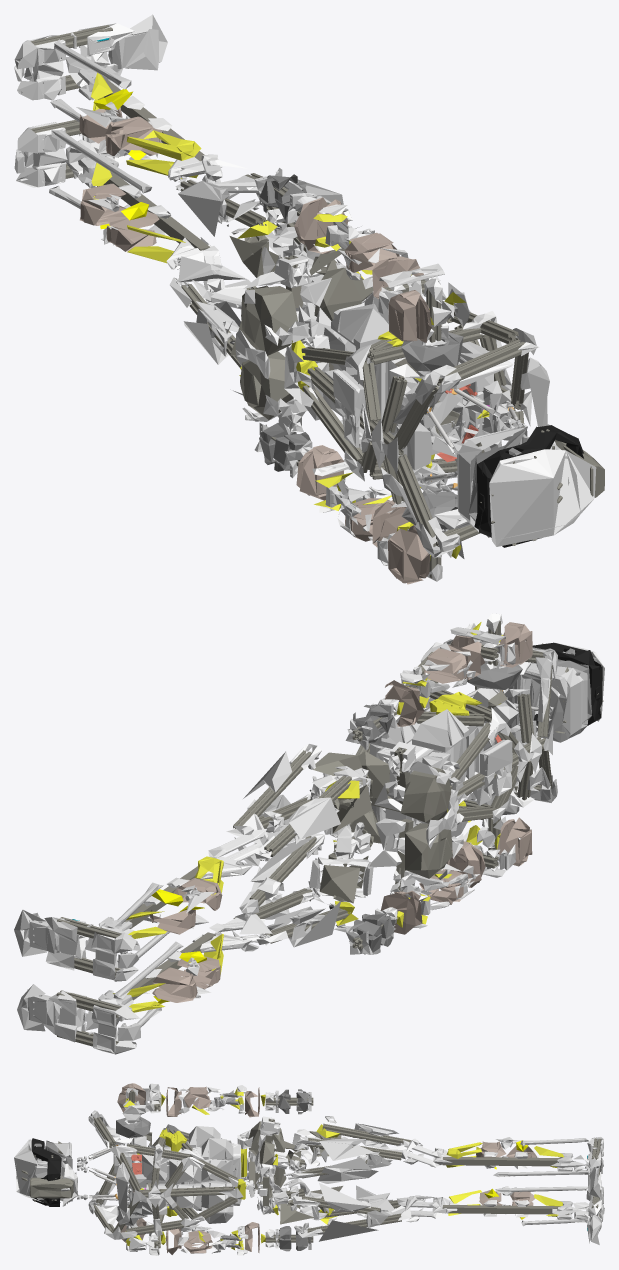
The model's file is dropbear-usd-browser-lite.glb.
3 renders of one model, top to bottom at view 1: azimuth 30°, elevation 25°; view 2: azimuth 150°, elevation 25°; view 3: azimuth 270°, elevation 25°, orthographic. The views are drawn at different scales.
Parts seen in each view (by area): view 1: BODY__world__1, BODY__world__3, BODY__world__2, BODY__head_u_joint_center__8__1__1, BODY__LL_skateboard_bearing_left_2__1, BODY__LL_skateboard_bearing_left_2__0, BODY__RL_double_bracket_10deg_MIR_MIR_MIR_1__2, BODY__head_u_joint_center__8__1__4, BODY__world__4, BODY__LH_RMD_X8_Pro_MIR8_MIR1__3__1__0, BODY__RL_RMD_X10_S2_MIR4Rotor_1__2, BODY__PG_RMD_X10_S2_MIR4__2_Rotor_1__1 (+32 smaller); view 2: BODY__world__1, BODY__world__3, BODY__world__2, BODY__head_u_joint_center__8__1__0, BODY__LL_skateboard_bearing_left_2__0, BODY__RL_skateboard_bearing_left_2__0, BODY__RL_double_bracket_10deg_MIR_MIR_MIR_1__2, BODY__LL_skateboard_bearing_left_2__1, BODY__LH_RMD_X8_Pro_MIR8_MIR1__3__1__0, BODY__RL_skateboard_bearing_left_2__1, BODY__PG_RMD_X10_S2_MIR4__1_Rotor_1__1, BODY__RL_RMD_X10_S2_MIR4Rotor_1__2 (+38 smaller); view 3: BODY__world__3, BODY__world__1, BODY__world__2, BODY__LL_bearingstrap_inner_thigh_1__2, BODY__head_u_joint_center__8__1__1, BODY__RL_bearingstrap_inner_thigh_1__2, BODY__LL_double_bracket_10deg_MIR_MIR_MIR_1__1, BODY__head_u_joint_center__8__1__2, BODY__RL_double_bracket_10deg_MIR_MIR_MIR_1__1, BODY__head_u_joint_center__8__1__4, BODY__world__4, BODY__LH_RMD_X8_Pro_MIR8_MIR1__3__1__0 (+49 smaller).
Boxes of the visible parts, box(x1,y1,x2,y2) form: BODY__world__1: box(240, 285, 528, 546); BODY__world__3: box(242, 289, 549, 557); BODY__world__2: box(235, 303, 538, 529); BODY__head_u_joint_center__8__1__1: box(489, 424, 596, 546); BODY__LL_skateboard_bearing_left_2__1: box(29, 23, 158, 100); BODY__LL_skateboard_bearing_left_2__0: box(14, 14, 167, 100); BODY__RL_double_bracket_10deg_MIR_MIR_MIR_1__2: box(80, 183, 159, 251); BODY__head_u_joint_center__8__1__4: box(474, 425, 583, 547); BODY__world__4: box(401, 332, 463, 529); BODY__LH_RMD_X8_Pro_MIR8_MIR1__3__1__0: box(345, 232, 423, 298); BODY__RL_RMD_X10_S2_MIR4Rotor_1__2: box(183, 279, 240, 364); BODY__PG_RMD_X10_S2_MIR4__2_Rotor_1__1: box(274, 254, 373, 341); BODY__world__1: box(333, 641, 552, 878); BODY__world__3: box(323, 647, 557, 879); BODY__world__2: box(321, 639, 553, 858); BODY__head_u_joint_center__8__1__0: box(506, 662, 587, 742); BODY__LL_skateboard_bearing_left_2__0: box(14, 909, 140, 981); BODY__RL_skateboard_bearing_left_2__0: box(17, 984, 140, 1054); BODY__RL_double_bracket_10deg_MIR_MIR_MIR_1__2: box(152, 956, 220, 1002); BODY__LL_skateboard_bearing_left_2__1: box(32, 912, 124, 970); BODY__LH_RMD_X8_Pro_MIR8_MIR1__3__1__0: box(424, 635, 485, 683); BODY__RL_skateboard_bearing_left_2__1: box(27, 989, 124, 1054); BODY__PG_RMD_X10_S2_MIR4__1_Rotor_1__1: box(330, 818, 416, 892); BODY__RL_RMD_X10_S2_MIR4Rotor_1__2: box(267, 900, 345, 947); BODY__world__3: box(88, 1110, 269, 1224); BODY__world__1: box(93, 1116, 286, 1235); BODY__world__2: box(95, 1124, 272, 1239); BODY__LL_bearingstrap_inner_thigh_1__2: box(317, 1152, 392, 1183); BODY__head_u_joint_center__8__1__1: box(14, 1139, 78, 1206); BODY__RL_bearingstrap_inner_thigh_1__2: box(319, 1183, 392, 1227); BODY__LL_double_bracket_10deg_MIR_MIR_MIR_1__1: box(442, 1157, 560, 1166); BODY__head_u_joint_center__8__1__2: box(21, 1141, 73, 1201); BODY__RL_double_bracket_10deg_MIR_MIR_MIR_1__1: box(442, 1205, 569, 1214); BODY__head_u_joint_center__8__1__4: box(31, 1138, 61, 1206); BODY__world__4: box(116, 1116, 150, 1225); BODY__LH_RMD_X8_Pro_MIR8_MIR1__3__1__0: box(166, 1086, 211, 1116).
Size of the model in its own units: 0.443 by 0.5747 by 1.87.
